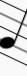G: (0, 1, 27, 66)
